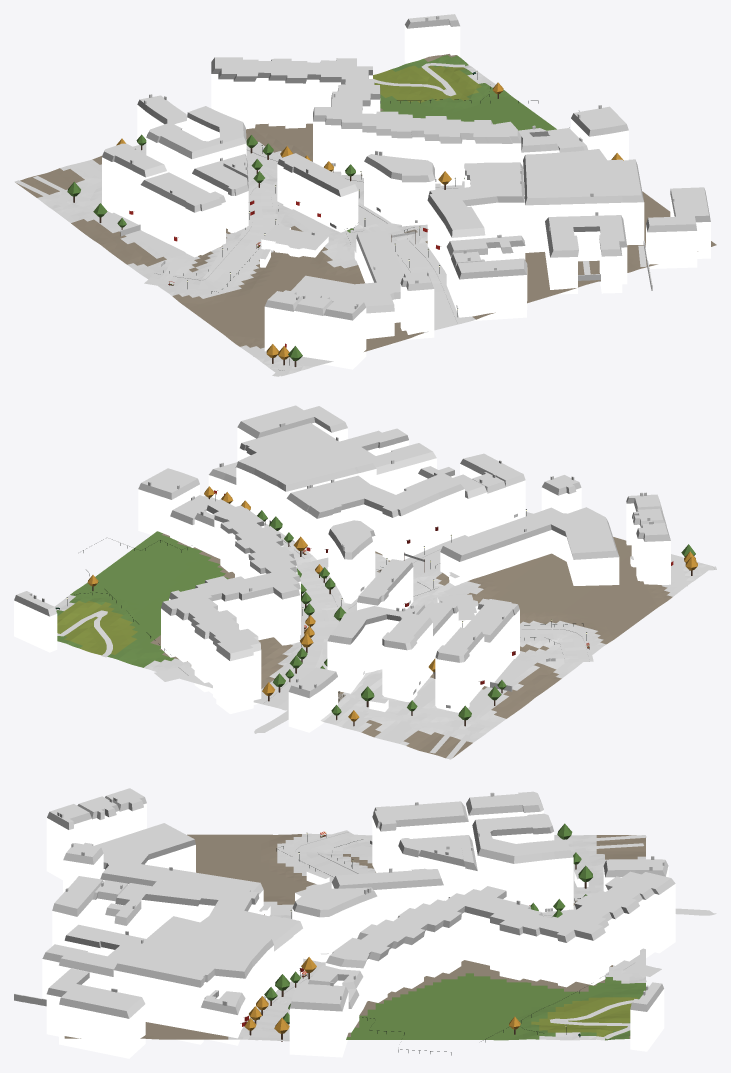
Rendered from zone_E7.glb.
3 views of the same model, one above another, from view 1: azimuth 30°, elevation 25°; view 2: azimuth 150°, elevation 25°; view 3: azimuth 270°, elevation 25° (orthographic). The views are drawn at different scales.
Visible parts, largest first — view 1: zone_E7_batiments, zone_E7_terrain, zone_E7_sol_NOCOL, zone_E7_decor_NOCOL; view 2: zone_E7_batiments, zone_E7_terrain, zone_E7_sol_NOCOL, zone_E7_decor_NOCOL; view 3: zone_E7_batiments, zone_E7_terrain, zone_E7_sol_NOCOL, zone_E7_decor_NOCOL.
Part boxes in pixels (left/top/right/bottom): zone_E7_batiments: left=102, top=14, right=710, bottom=369; zone_E7_terrain: left=15, top=54, right=716, bottom=376; zone_E7_sol_NOCOL: left=14, top=63, right=646, bottom=376; zone_E7_decor_NOCOL: left=67, top=71, right=623, bottom=366; zone_E7_batiments: left=14, top=405, right=670, bottom=732; zone_E7_terrain: left=54, top=496, right=713, bottom=758; zone_E7_sol_NOCOL: left=57, top=496, right=716, bottom=759; zone_E7_decor_NOCOL: left=55, top=486, right=697, bottom=726; zone_E7_batiments: left=14, top=788, right=675, bottom=1058; zone_E7_terrain: left=64, top=833, right=645, bottom=1040; zone_E7_sol_NOCOL: left=243, top=830, right=716, bottom=1041; zone_E7_decor_NOCOL: left=244, top=823, right=605, bottom=1055.
Bounding box in the file's own units: 219 × 33.84 × 258.
